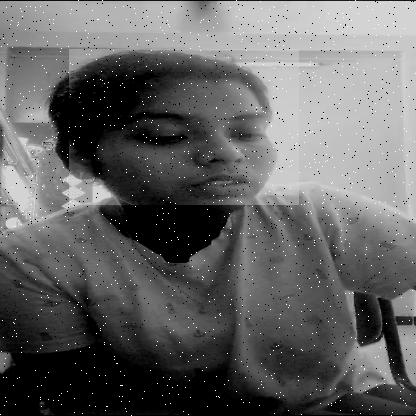Distracted: (69, 49, 300, 205)
